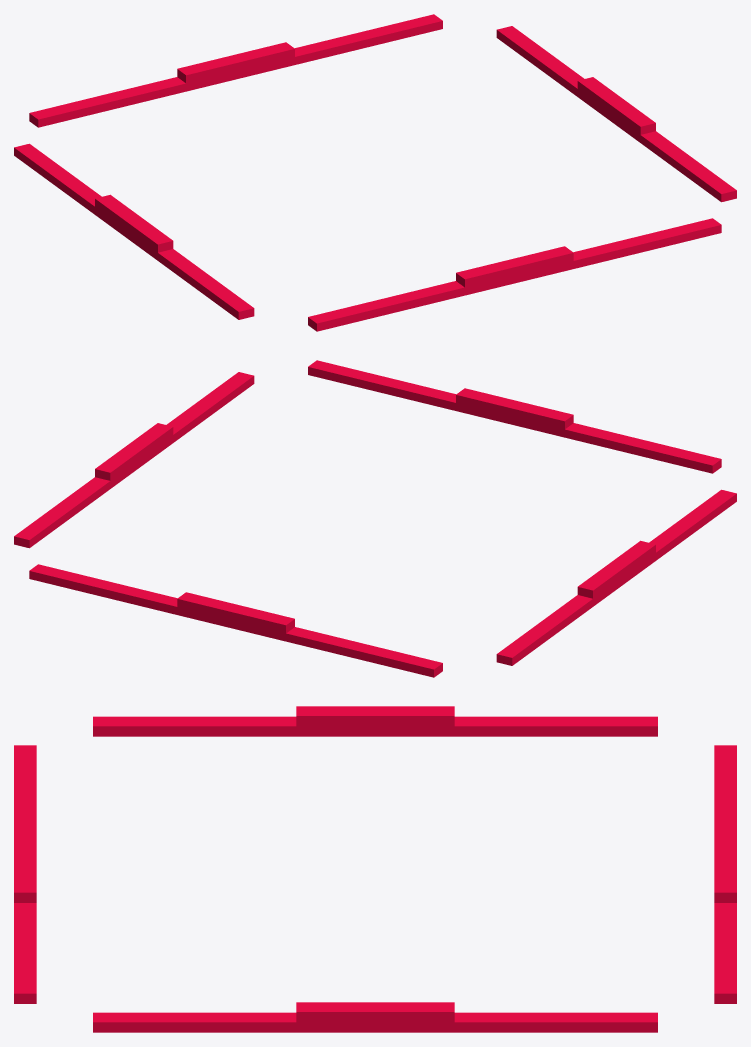
The model's file is towerSlice11.obj.
The picture shows the model from 3 angles, top to bottom: view 1: azimuth 30°, elevation 25°; view 2: azimuth 150°, elevation 25°; view 3: azimuth 270°, elevation 25°; orthographic projection. The views are drawn at different scales.
Size of the model in its own units: 6.4 by 0.2 by 6.4.
